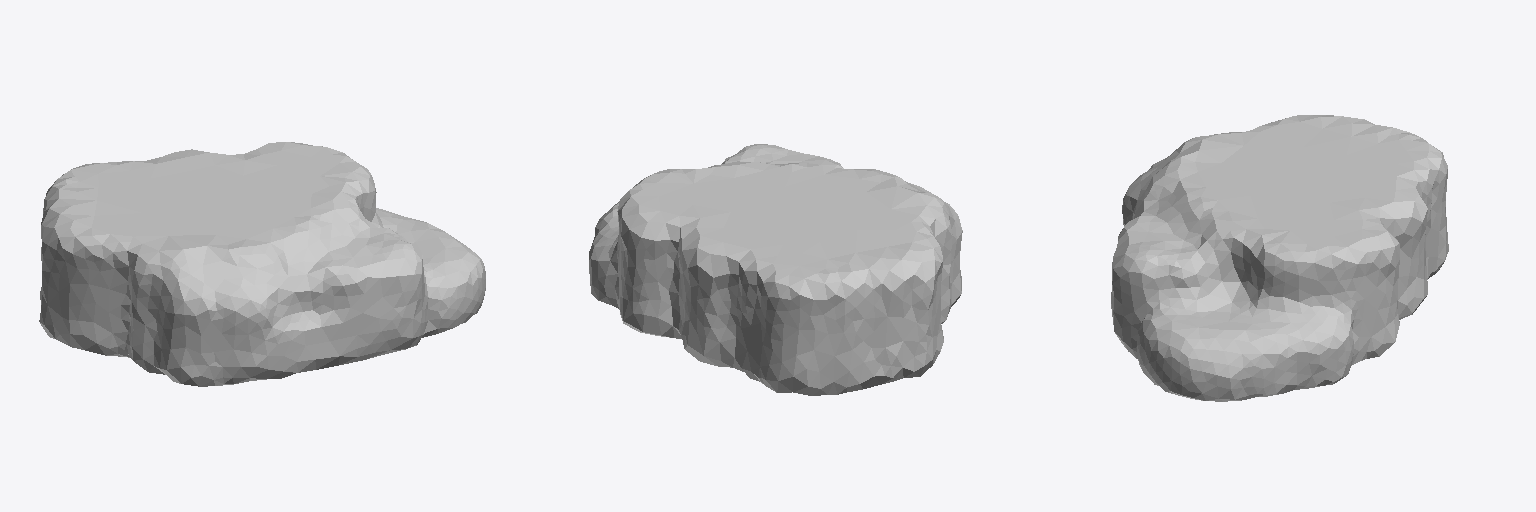
File: CavePlatform2_1.obj
3 views of the same model, side by side, from view 1: azimuth 30°, elevation 25°; view 2: azimuth 150°, elevation 25°; view 3: azimuth 270°, elevation 25° (orthographic).
Parts seen in each view (by area): view 1: CavePlatform2-1; view 2: CavePlatform2-1; view 3: CavePlatform2-1.
Boxes of the visible parts, <box> form: CavePlatform2-1: <box>39,142,485,386</box>; CavePlatform2-1: <box>589,144,962,395</box>; CavePlatform2-1: <box>1111,115,1448,401</box>.
Bounding box in the file's own units: 44.26 × 13.87 × 34.24.